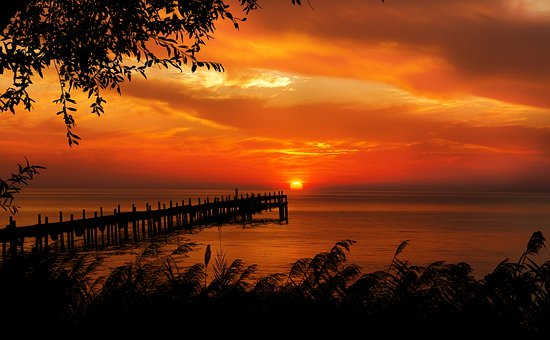sea: (30, 189, 550, 292)
sky: (68, 1, 546, 196)
tree: (5, 1, 202, 103)
